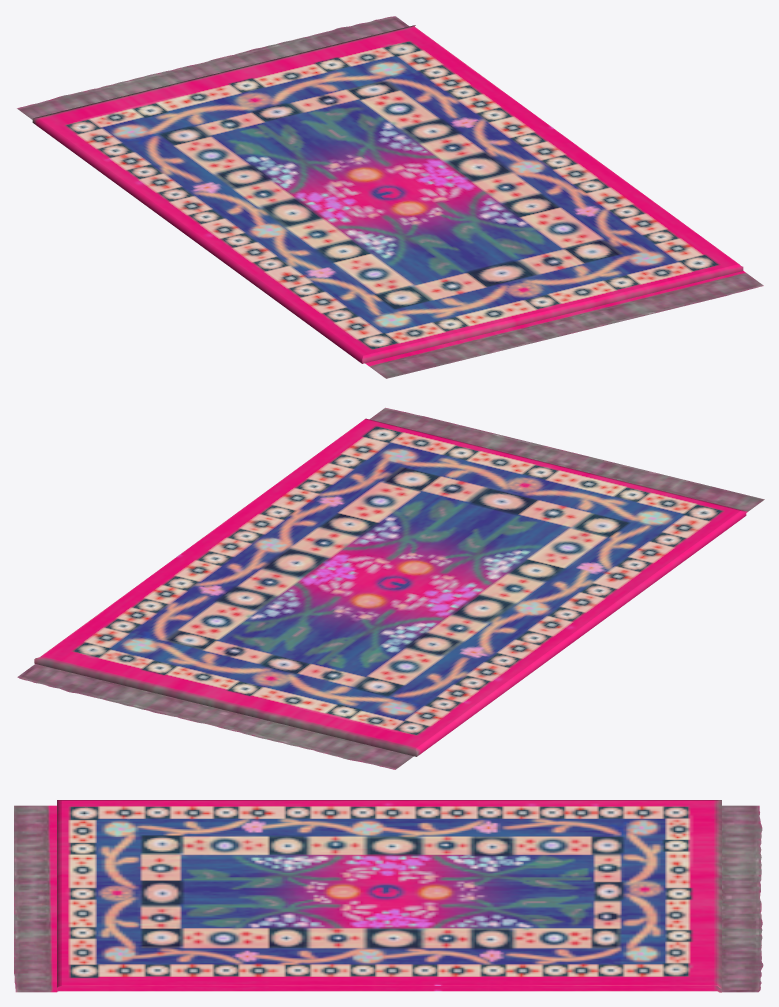
File: rectangleRug.fbx
3 renders of one model, top to bottom at view 1: azimuth 30°, elevation 25°; view 2: azimuth 150°, elevation 25°; view 3: azimuth 270°, elevation 25°, orthographic.
Parts seen in each view (by area): view 1: polySurface1; view 2: polySurface1; view 3: polySurface1.
Boxes of the visible parts, x1,y1,x2,y2 form: polySurface1: (17,16,763,378); polySurface1: (17,407,764,769); polySurface1: (14,800,763,992).
Bounding box in the file's own units: 10.07 × 0.1398 × 16.97.
